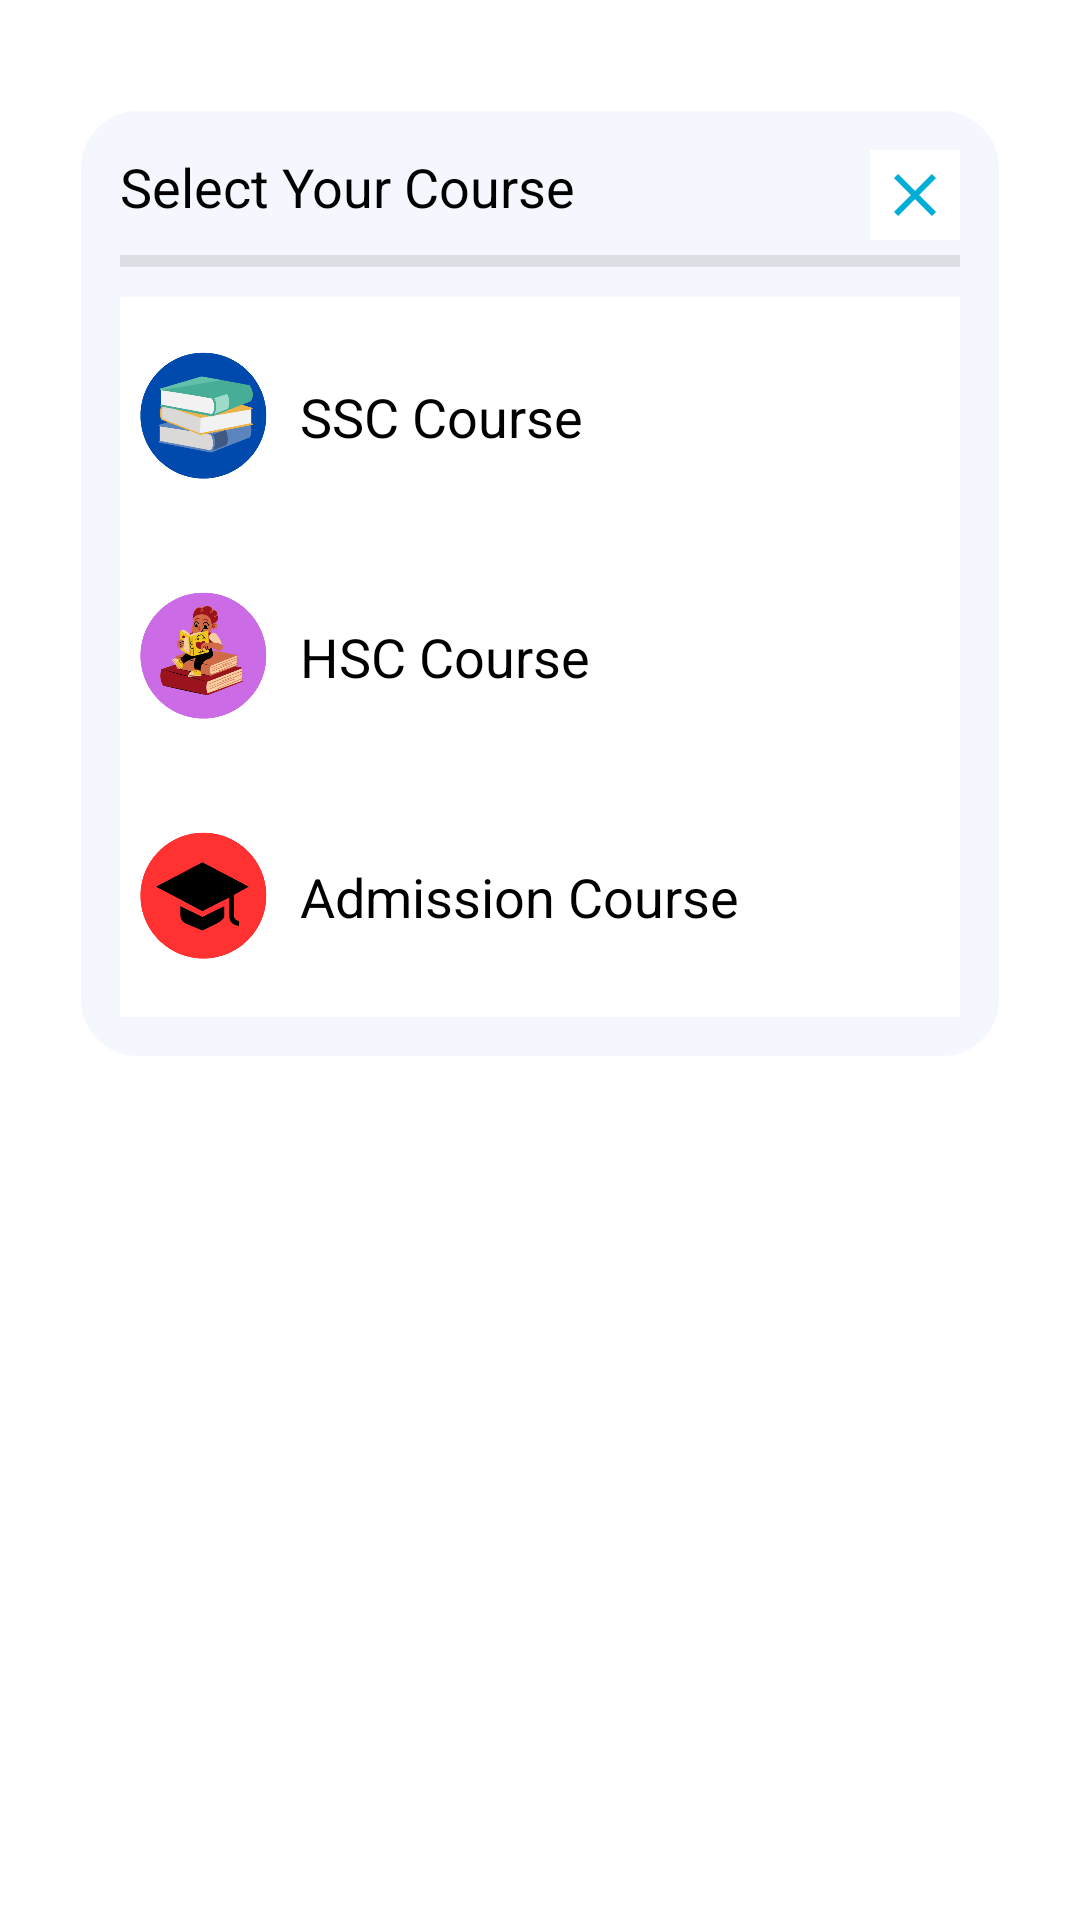

Where icons sit on this 1080x1920 app screen, as {"left": x1, "top": y1, "right": x2, "bottom": y2}:
clear: {"left": 870, "top": 150, "right": 960, "bottom": 240}
